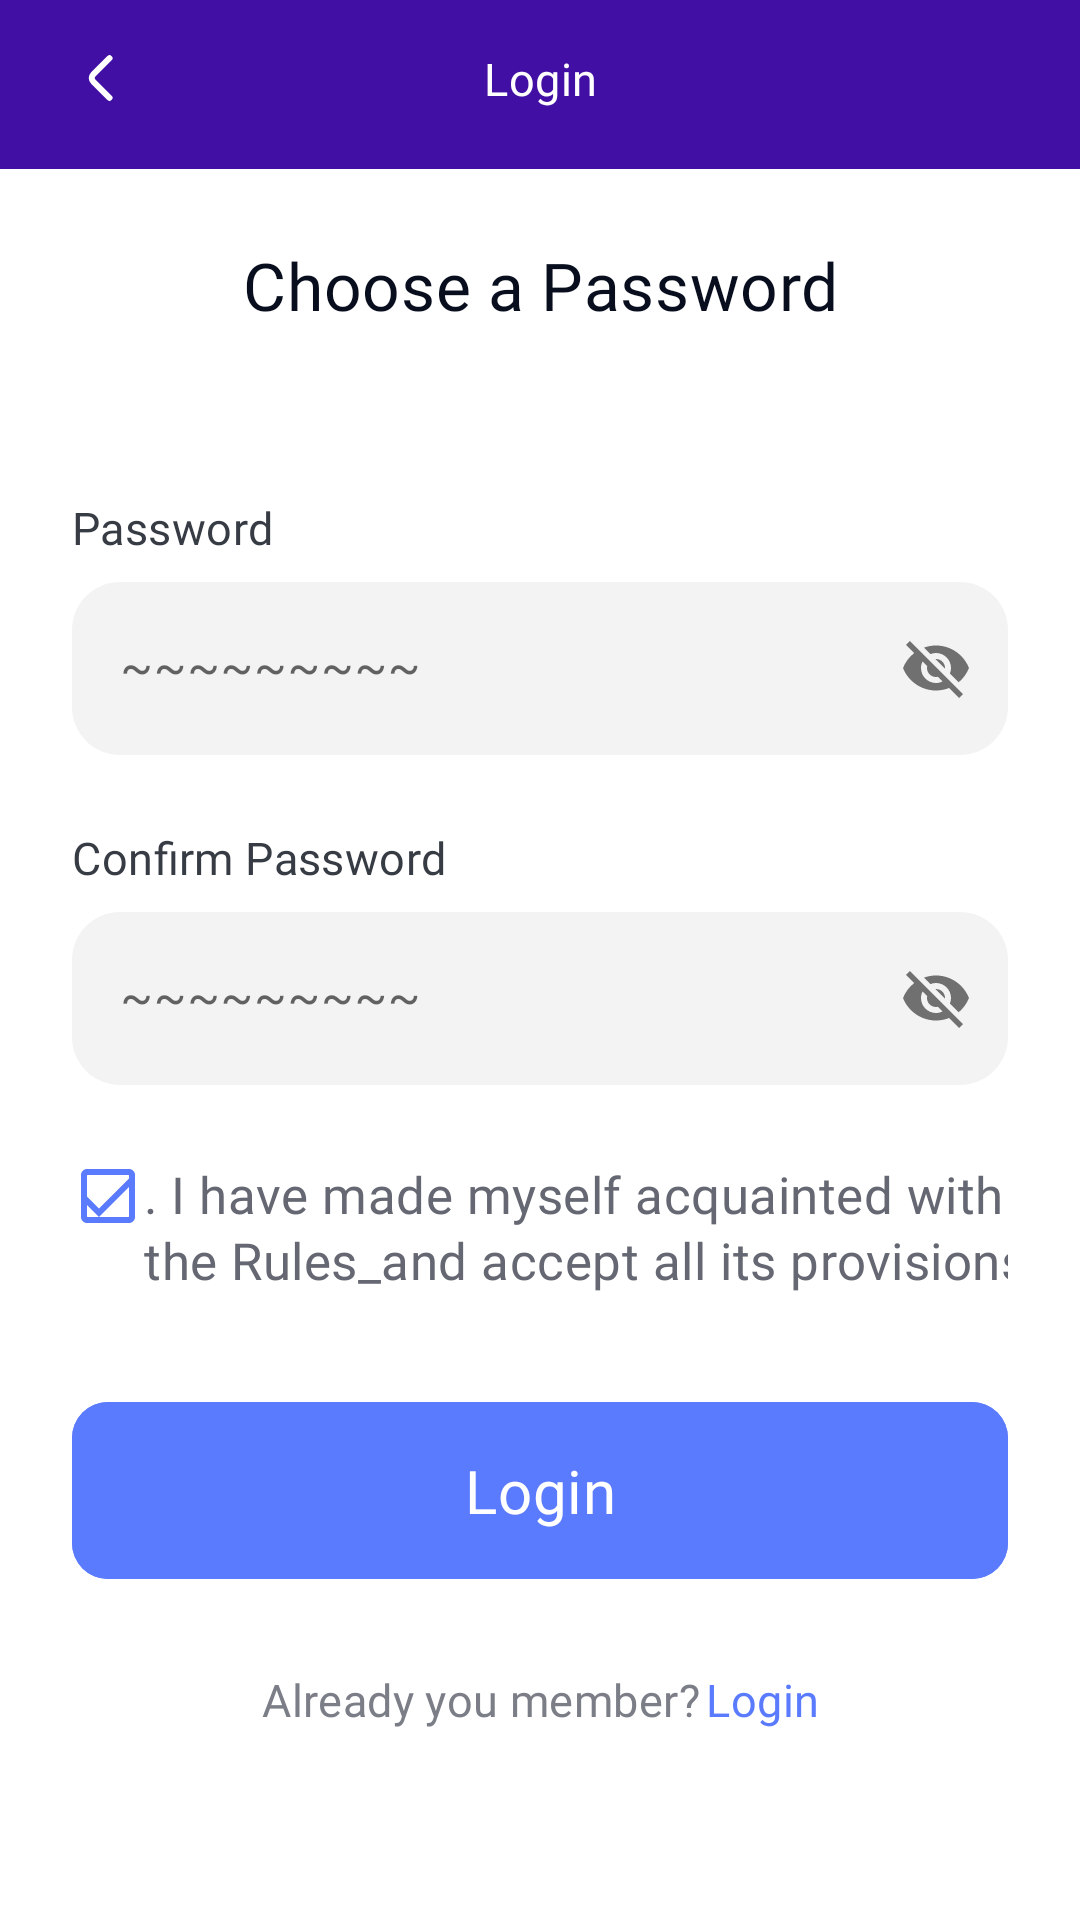

Where to tap for icons on this 1080 × 1920 app screen, as point (x, y):
back: point (100, 78)
